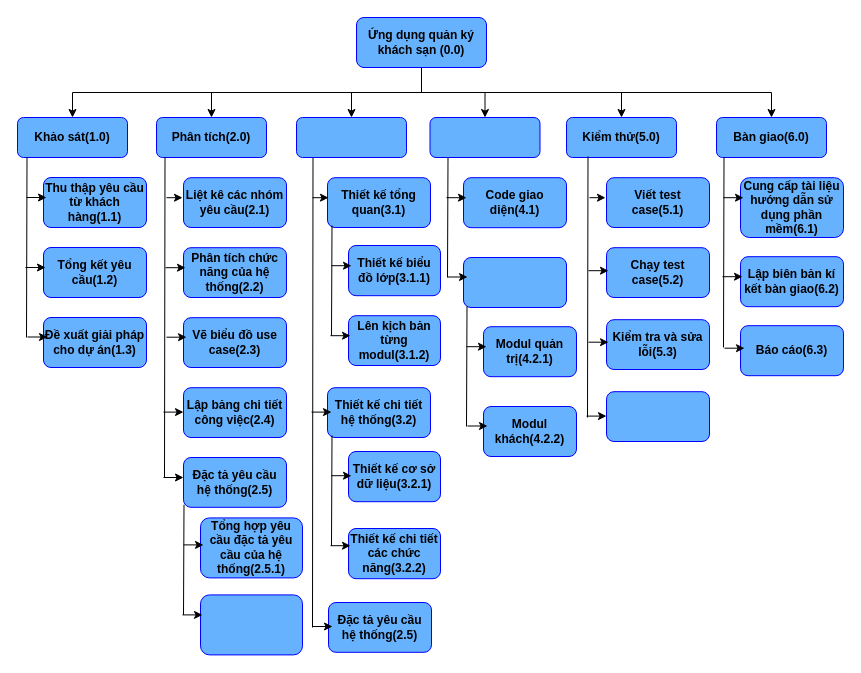
The diagram is 861 pixels wide and 673 high, and some of its shapes have lost their labels. The shapes that lost their labels are listed below. From the top down, each one's box as (x1, y1, x2, y2) in pixels, then its label:
(296, 116, 406, 158): Thiết kế(3.0)
(429, 116, 540, 158): Xây dựng(4.0)
(462, 256, 566, 308): Code back-end(4.2)
(606, 391, 710, 442): Báo cáo(5.4)
(200, 594, 302, 655): Viết tài liệu đặc tả yêu cầu (2.5.2)
